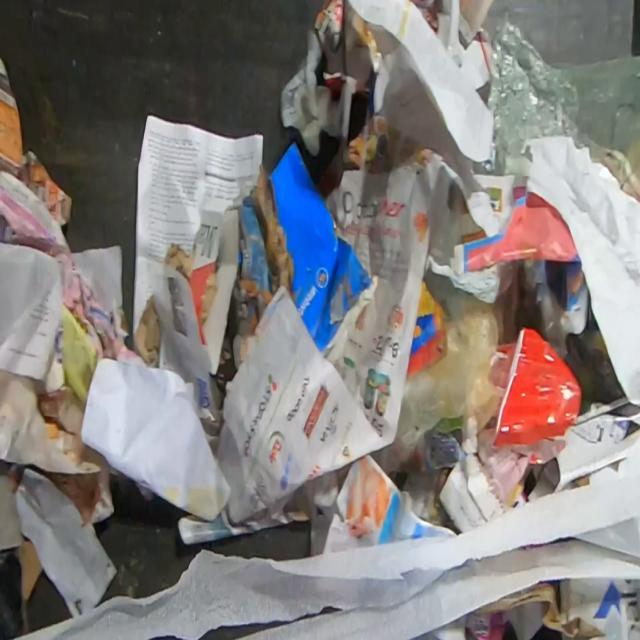cardboard: (17, 539, 44, 604)
rigid_plastic: (488, 326, 584, 450)
soft_plastic: (473, 19, 640, 204), (380, 294, 506, 476)
